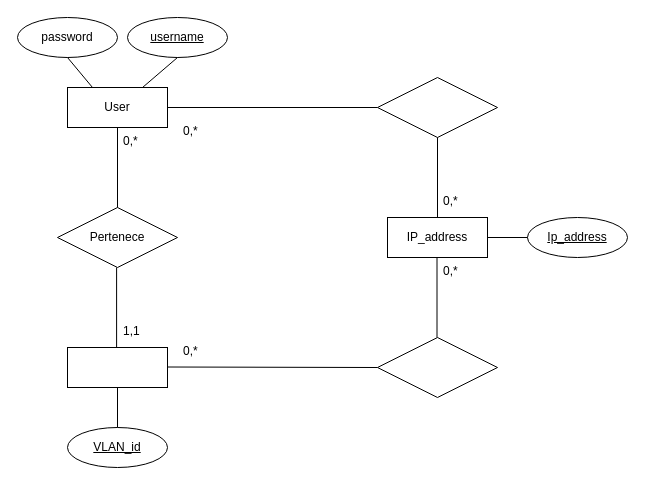
Some shapes in this 645 by 485 pixel diagram are drawn without their labels. The shapes that lost their labels are listed below. From the top down, each one's centre as x and y in pixels, then its label:
At pixel 437 107: "UserRestricted".
At pixel 117 367: "VLAN".
At pixel 437 367: "VLAN Restricted".
